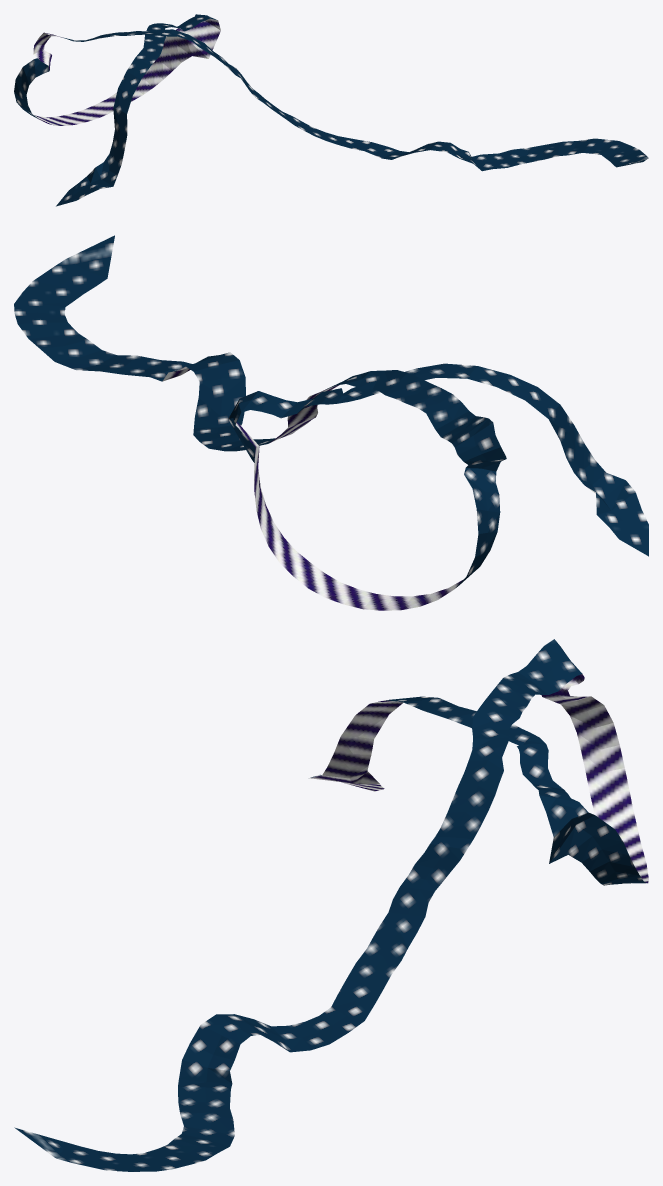
3 views of the same model, one above another, from view 1: azimuth 30°, elevation 25°; view 2: azimuth 150°, elevation 25°; view 3: azimuth 270°, elevation 25° (orthographic). The views are drawn at different scales.
Visible parts, largest first — view 1: Mesh2; view 2: Mesh2; view 3: Mesh2.
Part boxes in pixels (x1=…): Mesh2: x1=14, y1=14, x2=648, y2=206; Mesh2: x1=14, y1=235, x2=648, y2=610; Mesh2: x1=14, y1=639, x2=648, y2=1171.
Size of the model in its own units: 2.43 by 0.6224 by 1.72.
2 materials, 2 textured.
